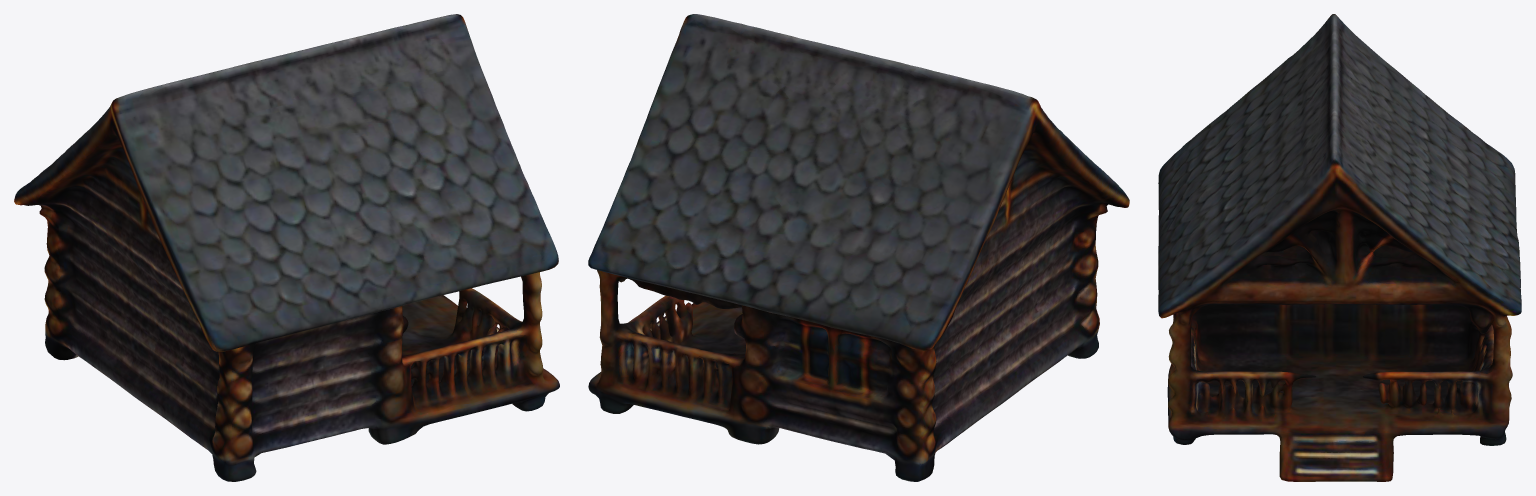
The model's file is 1a36521df3bf_Luxury_cabin.fbx.
3 renders of one model, left to right at view 1: azimuth 30°, elevation 25°; view 2: azimuth 150°, elevation 25°; view 3: azimuth 270°, elevation 25°, orthographic. The views are drawn at different scales.
Parts seen in each view (by area): view 1: high_poly; view 2: high_poly; view 3: high_poly.
Part boxes in pixels (<box>): high_poly: <box>14,14,559,481</box>; high_poly: <box>588,14,1129,481</box>; high_poly: <box>1158,14,1521,481</box>.
Bounding box in the file's own units: 100 × 82.01 × 89.3.
